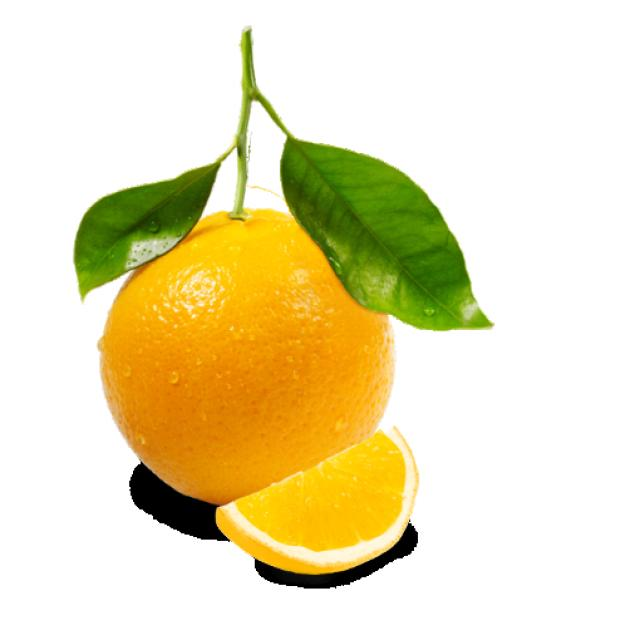orange: (100, 202, 422, 582)
